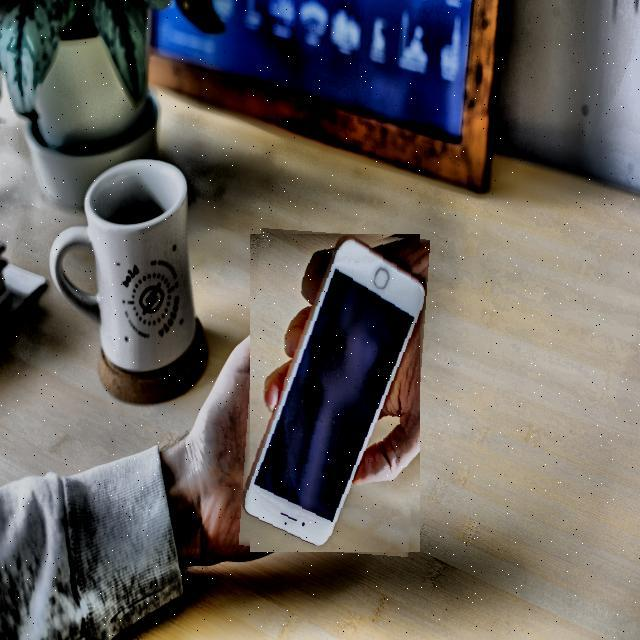Phone: (244, 232, 426, 554)
